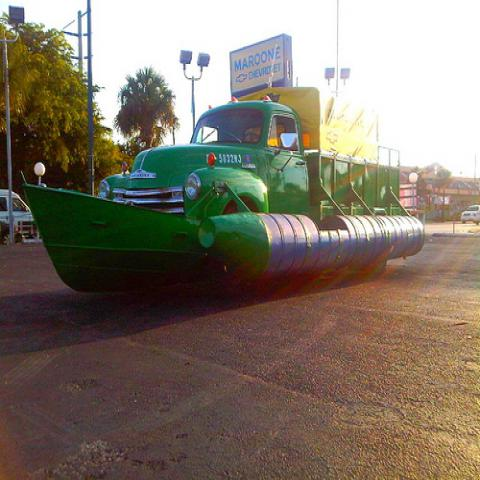car: (0, 190, 34, 235), (461, 205, 479, 225)
truck: (18, 81, 426, 296)
